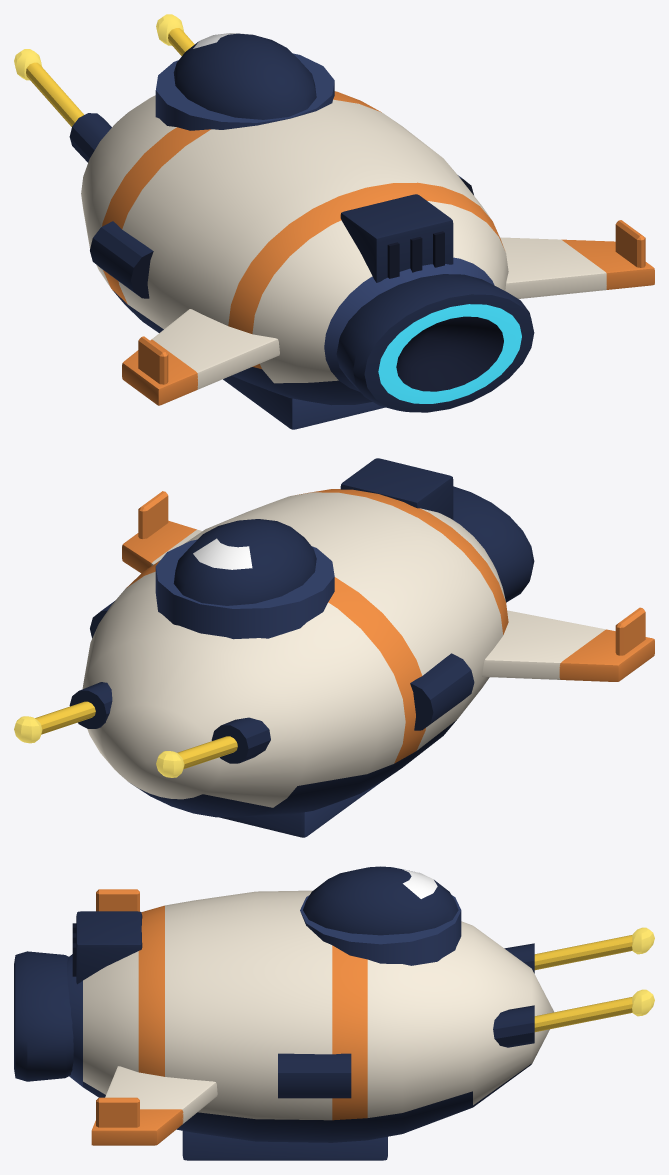
Rendered from ship.glb.
3 renders of one model, top to bottom at view 1: azimuth 30°, elevation 25°; view 2: azimuth 150°, elevation 25°; view 3: azimuth 270°, elevation 25°, orthographic. The views are drawn at different scales.
Visible parts, largest first — view 1: ship; view 2: ship; view 3: ship.
Part boxes in pixels (x1,y1,x2,y2): ship: [14, 14, 654, 429]; ship: [14, 458, 654, 837]; ship: [14, 866, 654, 1160].
Bounding box in the file's own units: 3.5 × 1.96 × 4.37.
Materials: 2 (2 with a texture image).
